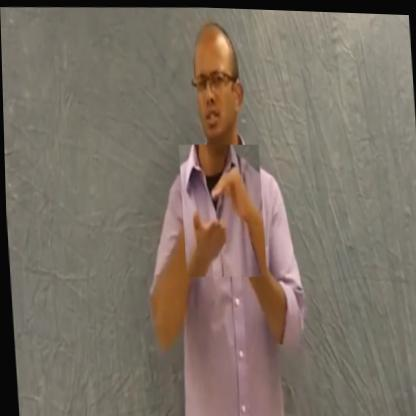ExcuseMe: (178, 140, 266, 278)
